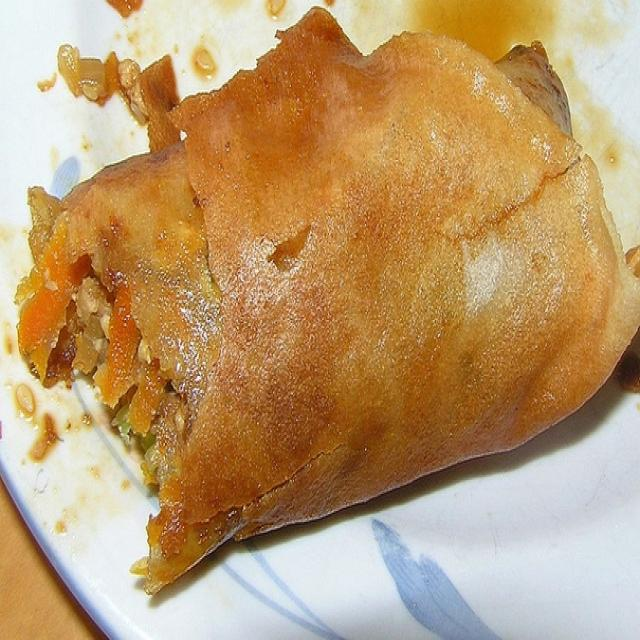炸货点心: (48, 53, 627, 537)
